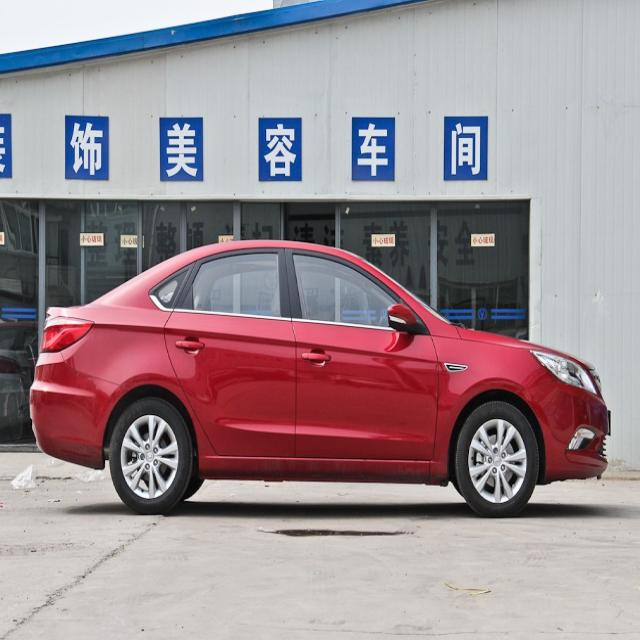back_right_side_light: (38, 316, 96, 355)
door: (177, 245, 301, 462)
front_bumper: (455, 402, 538, 514), (113, 398, 191, 507), (542, 394, 614, 478)
front_right_side_door: (283, 244, 442, 466)
front_right_side_light: (529, 348, 600, 398)
front_right_side_mirror: (385, 302, 420, 335)
rear_bumper: (29, 355, 121, 473)
